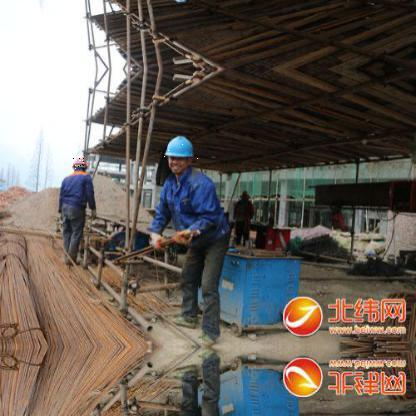safetyhelmet: (161, 132, 199, 162), (71, 158, 89, 170)
